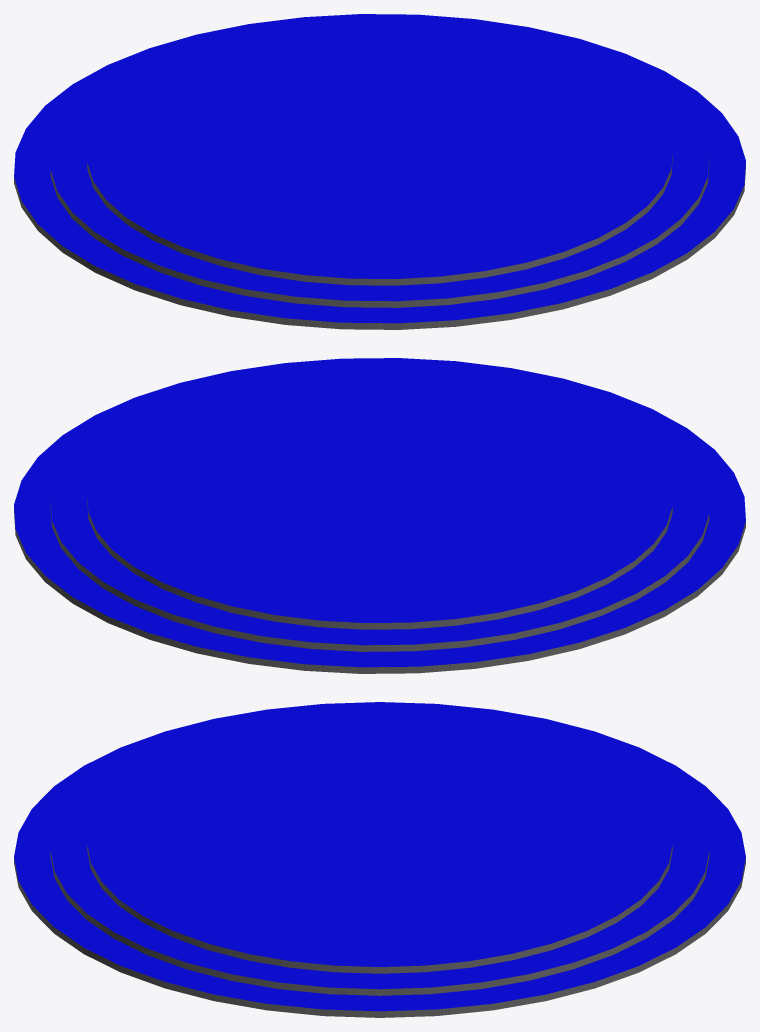
Rendered from BluePodium.fbx.
3 views of the same model, one above another, from view 1: azimuth 30°, elevation 25°; view 2: azimuth 150°, elevation 25°; view 3: azimuth 270°, elevation 25° (orthographic).
Parts seen in each view (by area): view 1: Podium; view 2: Podium; view 3: Podium.
Part boxes in pixels (x1,y1,x2,y2): Podium: (14,14,745,329); Podium: (14,358,745,673); Podium: (14,702,745,1017).
Size of the model in its own units: 200 by 6 by 200.
